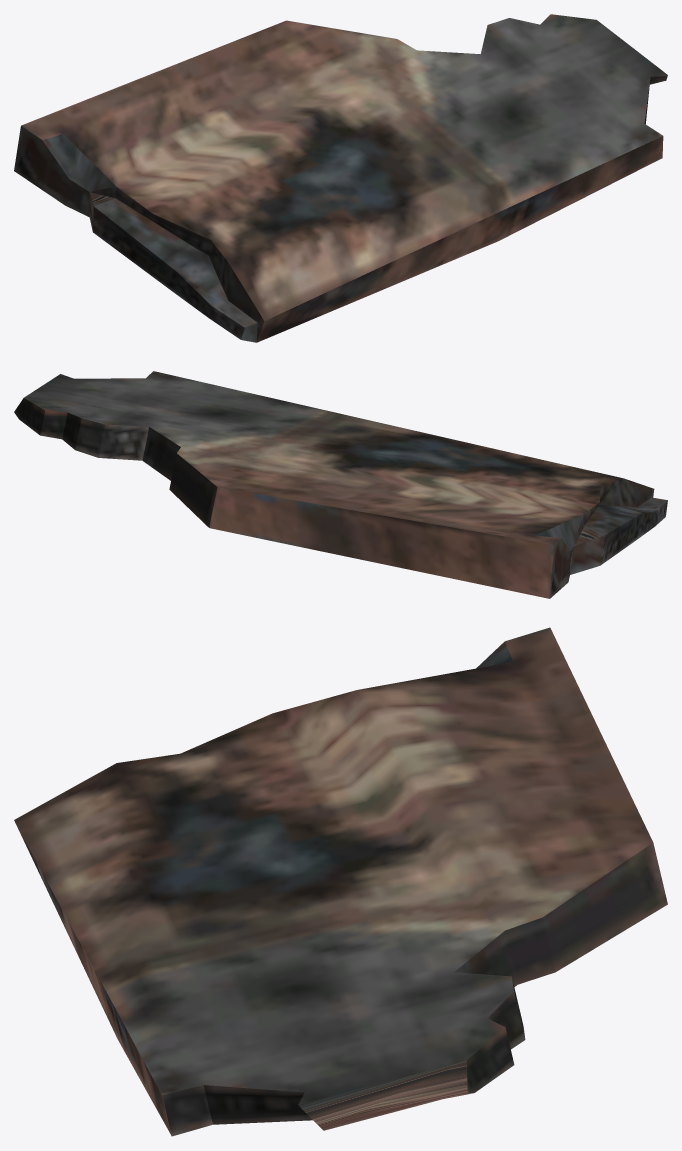
Rendered from debris_tradefed_hulk_radial_s04_l2.fbx.
3 renders of one model, top to bottom at view 1: azimuth 30°, elevation 25°; view 2: azimuth 150°, elevation 25°; view 3: azimuth 270°, elevation 25°, orthographic. The views are drawn at different scales.
Parts seen in each view (by area): view 1: mesh_node; view 2: mesh_node; view 3: mesh_node.
Part boxes in pixels (bbox=[...]): mesh_node: bbox=[14, 14, 667, 342]; mesh_node: bbox=[14, 371, 667, 598]; mesh_node: bbox=[14, 627, 667, 1136].
Size of the model in its own units: 5.13 by 1.04 by 3.23.
1 material, 1 textured.
